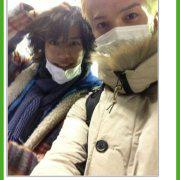OK: (92, 4, 156, 69)
WRONG: (45, 34, 84, 82)
